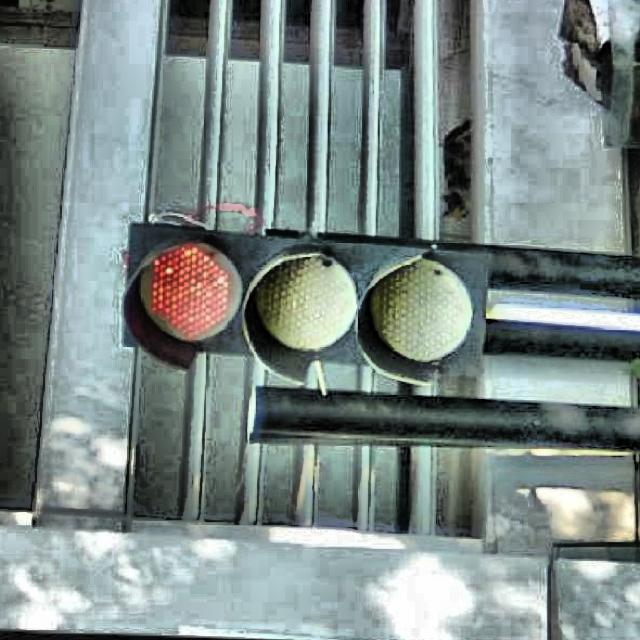red: (111, 212, 500, 370)
